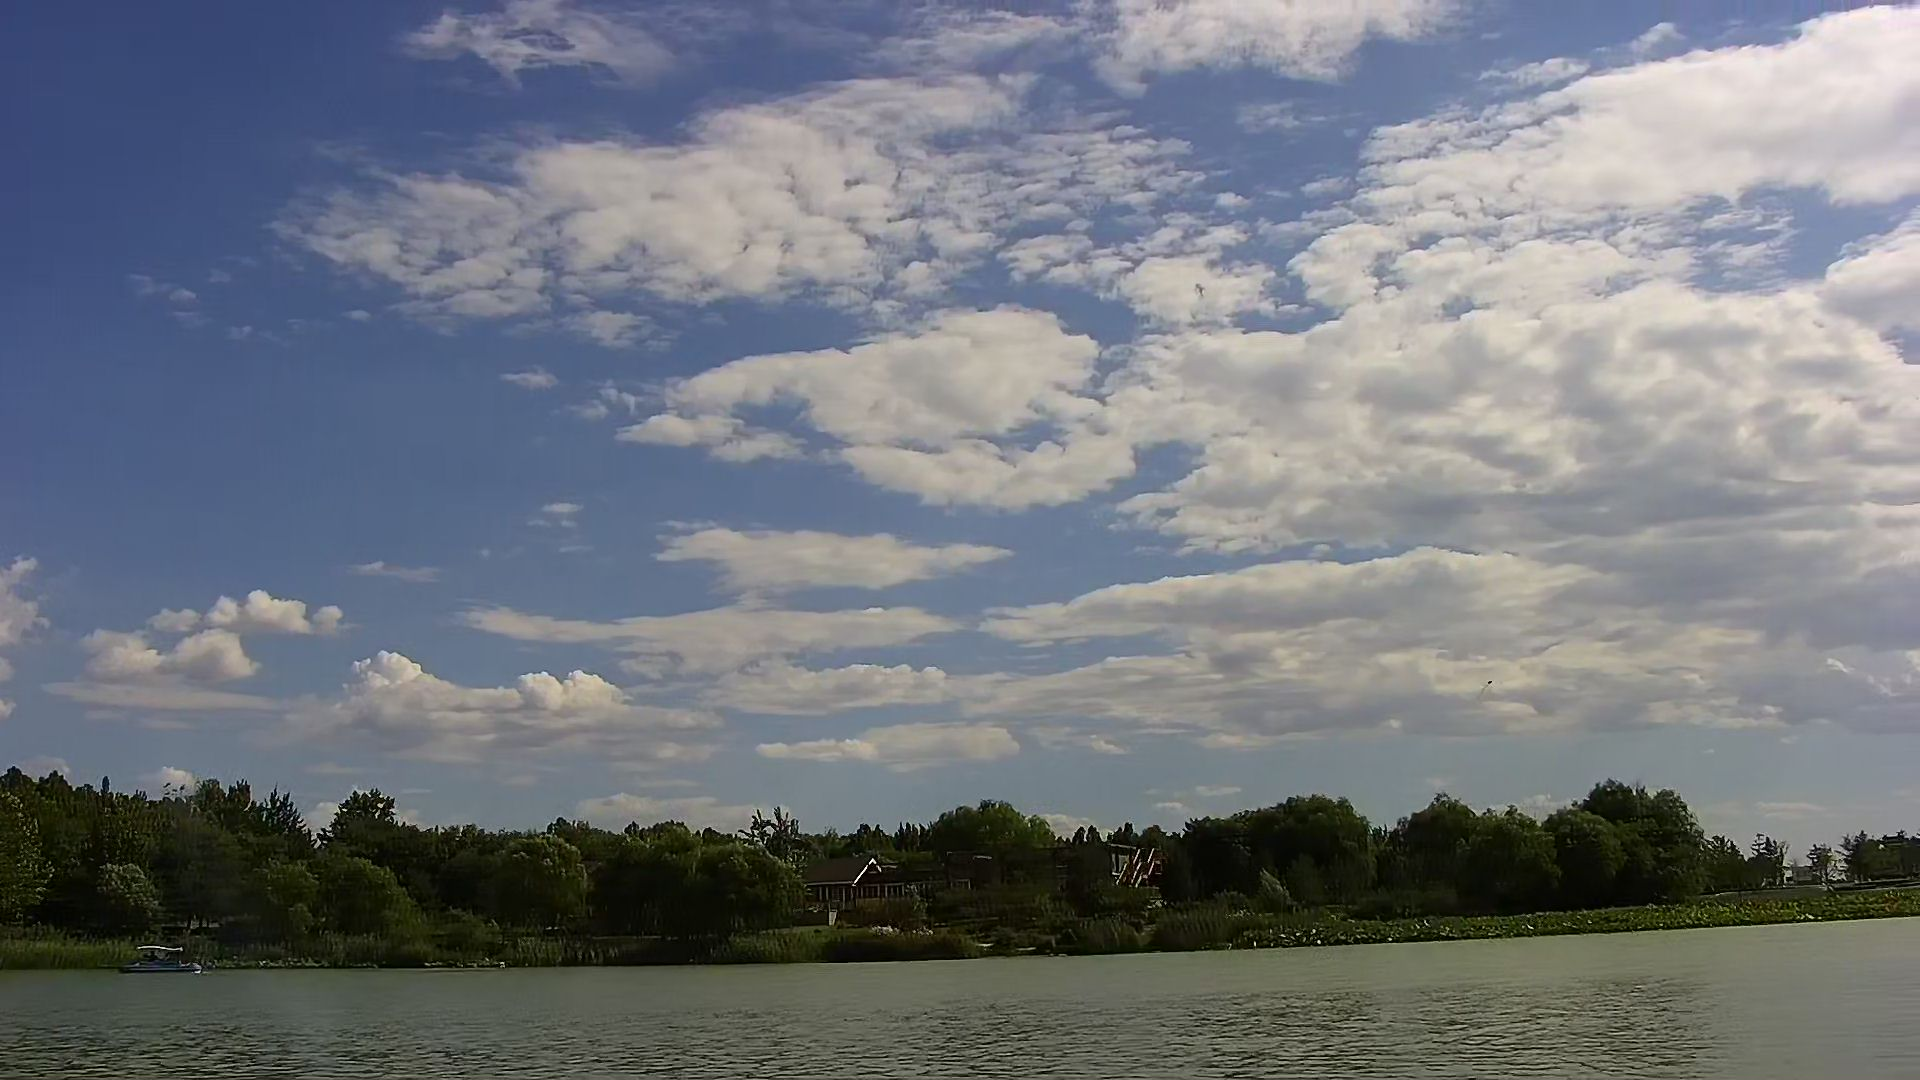boat: (109, 938, 207, 988)
